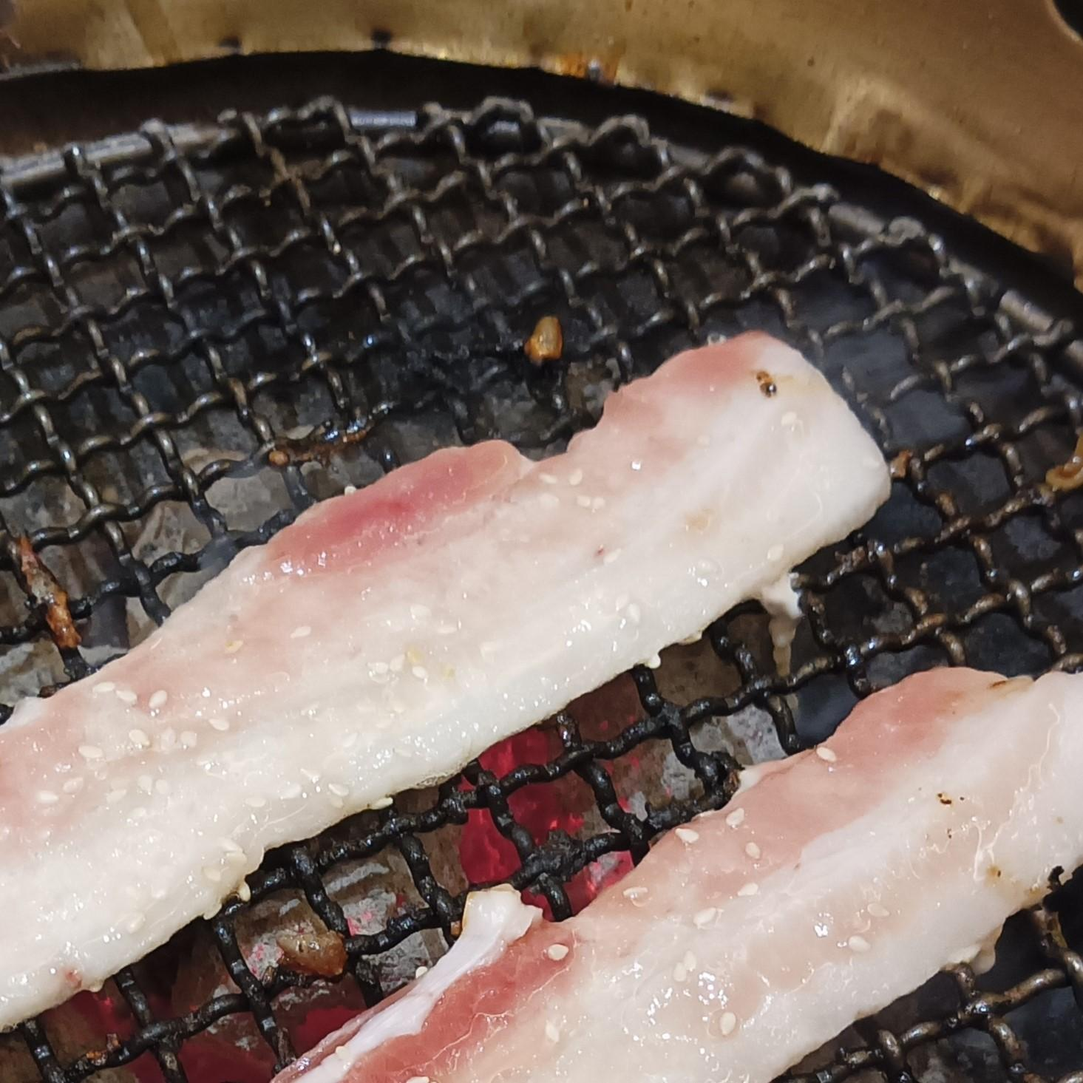Undercooked: (0, 333, 892, 1036), (394, 671, 1082, 1082)
